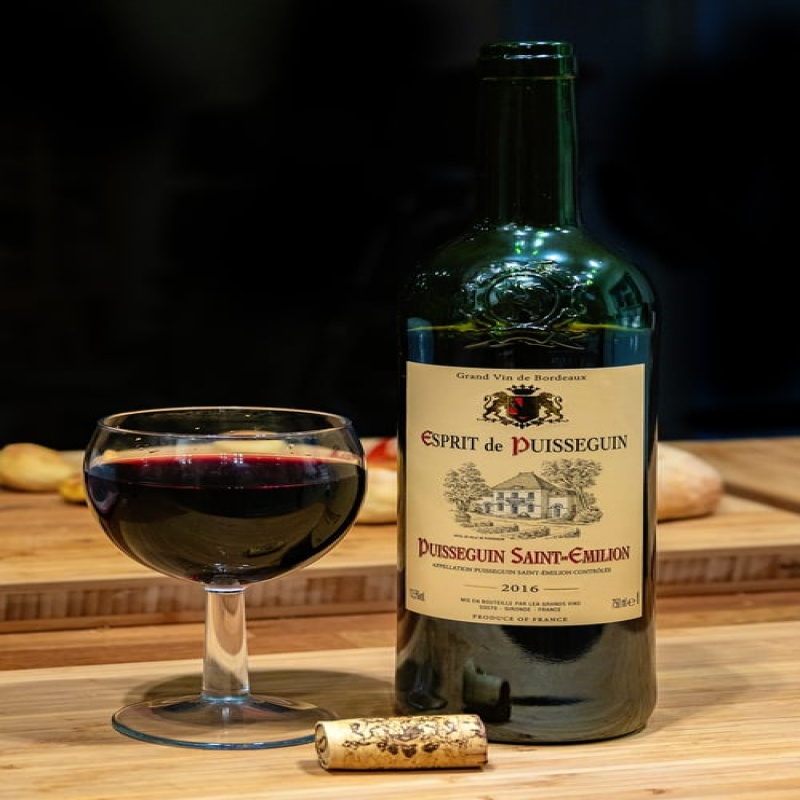wine: (404, 42, 667, 733)
